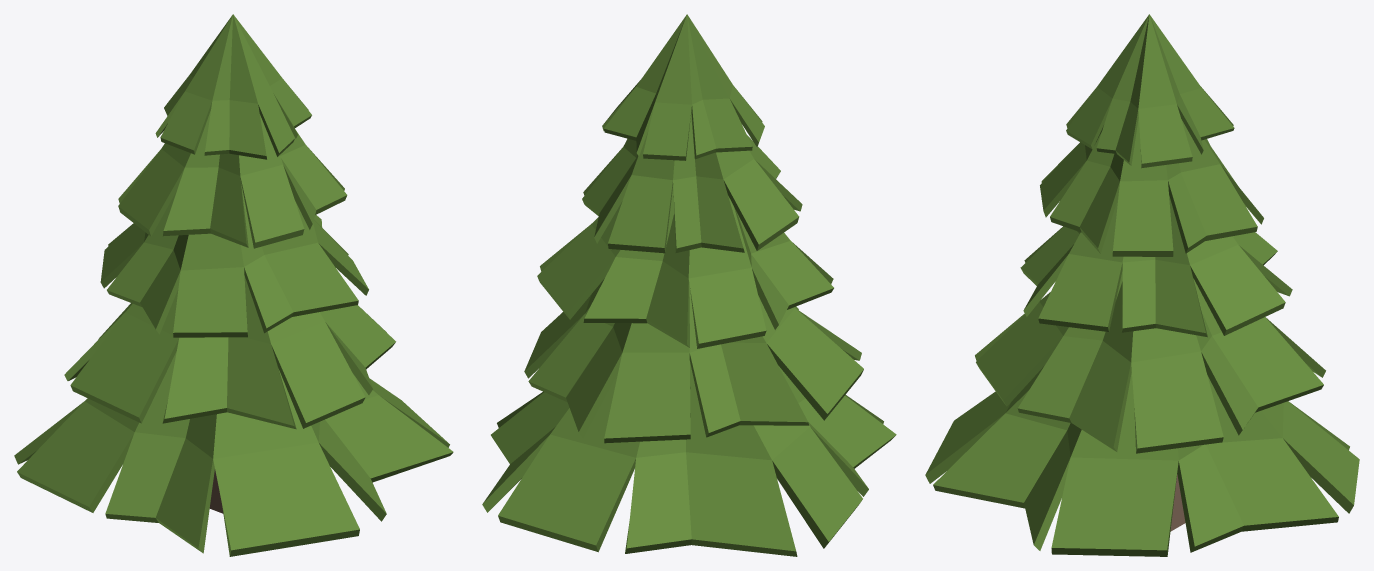
File: spruce.fbx
3 views of the same model, side by side, from view 1: azimuth 30°, elevation 25°; view 2: azimuth 150°, elevation 25°; view 3: azimuth 270°, elevation 25° (orthographic). The views are drawn at different scales.
Visible parts, largest first — view 1: spruce; view 2: spruce; view 3: spruce.
Part boxes in pixels (x1,y1,x2,y2): spruce: (14, 14, 453, 556); spruce: (482, 14, 896, 556); spruce: (925, 14, 1359, 556).
Size of the model in its own units: 533 by 700 by 551.
